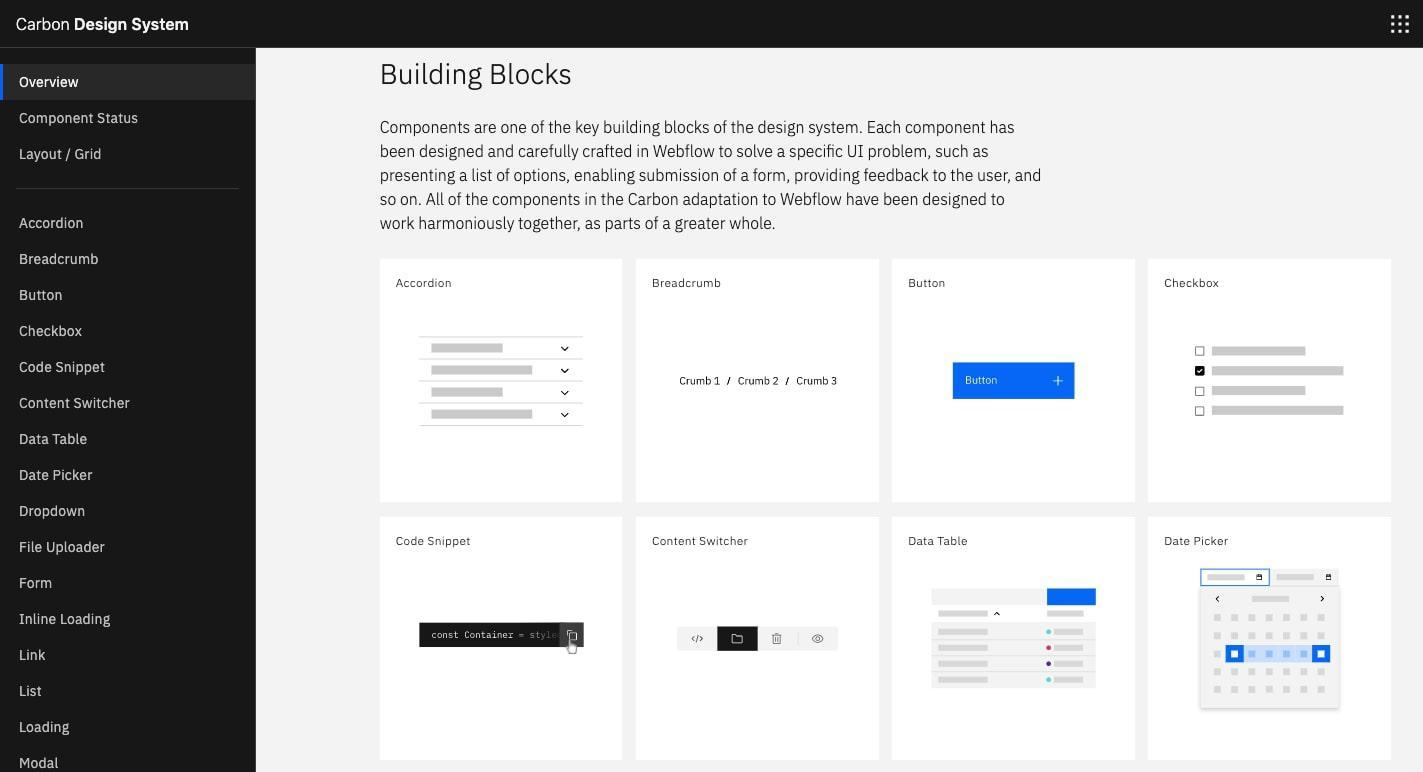button: (953, 362, 1076, 401), (718, 626, 760, 652), (759, 628, 799, 652), (799, 628, 839, 652), (1048, 588, 1097, 607), (678, 629, 719, 651)
checkbox: (1196, 407, 1206, 417), (1196, 347, 1205, 357), (1196, 367, 1205, 377), (1196, 388, 1205, 397)
icon: (1387, 12, 1413, 39), (560, 344, 571, 355), (560, 410, 571, 421), (561, 388, 571, 398), (561, 367, 570, 377)
input: (1271, 569, 1339, 587), (1201, 570, 1270, 587)
